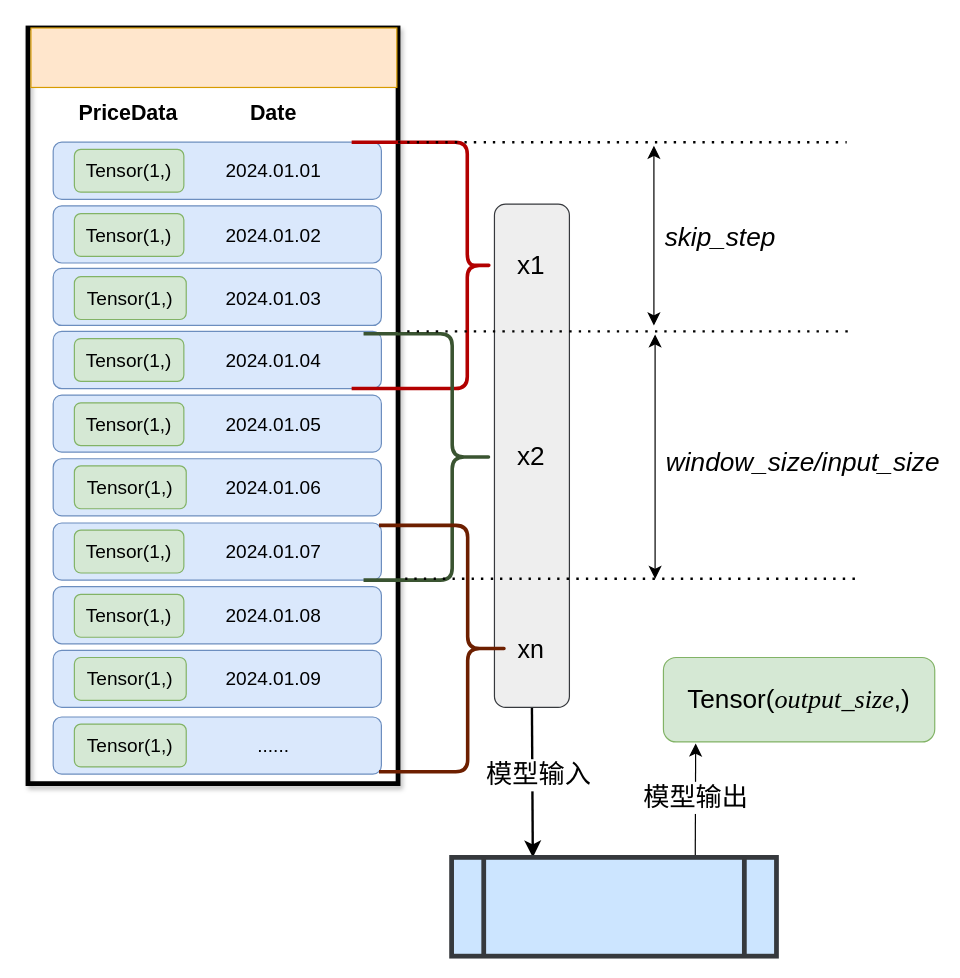
Some shapes in this 960 by 978 pixel diagram are drawn without their labels. Each missing label, with the centre of its shape:
"GRU-FC" goes at [613,906].
"GRU-FC模型训练集/测试集" goes at [213,57].
